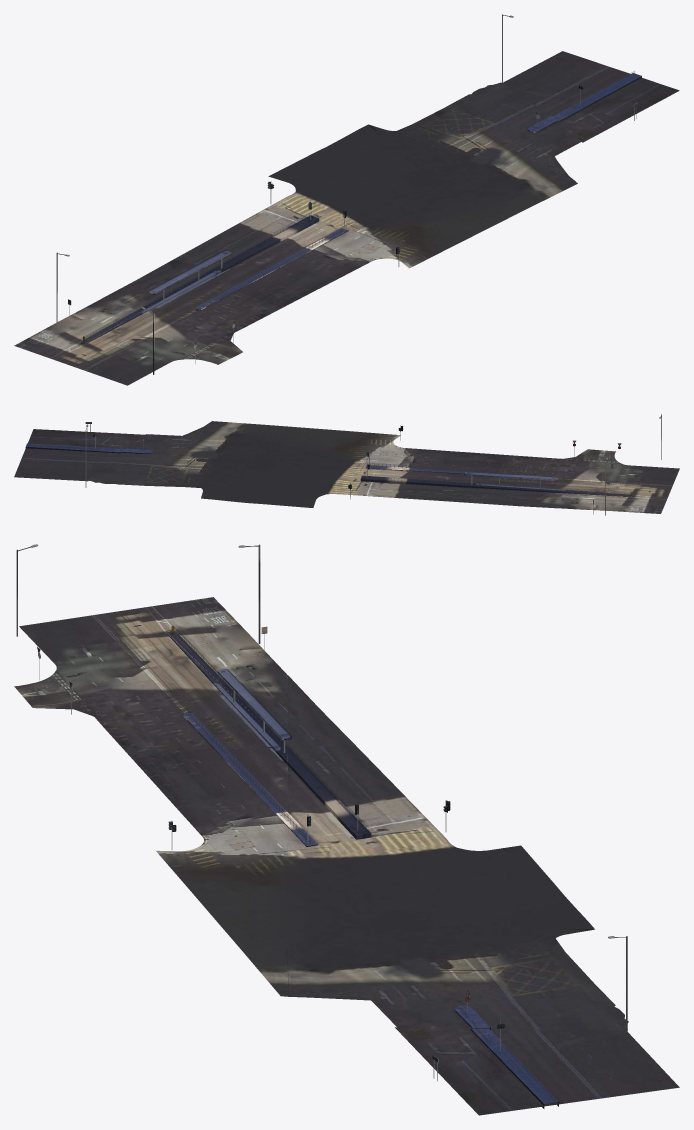
The model's file is canal-road-west.glb.
3 views of the same model, one above another, from view 1: azimuth 30°, elevation 25°; view 2: azimuth 150°, elevation 25°; view 3: azimuth 270°, elevation 25° (orthographic). The views are drawn at different scales.
Visible parts, largest first — view 1: canal-road-west; view 2: canal-road-west; view 3: canal-road-west.
Boxes of the visible parts, left/top/right/bottom form: canal-road-west: left=14, top=14, right=679, bottom=385; canal-road-west: left=14, top=414, right=679, bottom=515; canal-road-west: left=14, top=544, right=679, bottom=1115.
Bounding box in the file's own units: 137 × 13.87 × 74.55.
17 materials, 17 textured.
